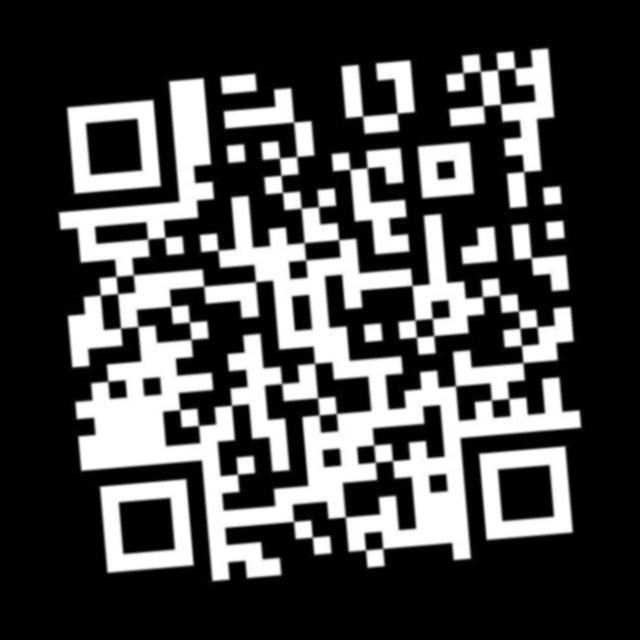qr-code: (21, 25, 620, 615)
